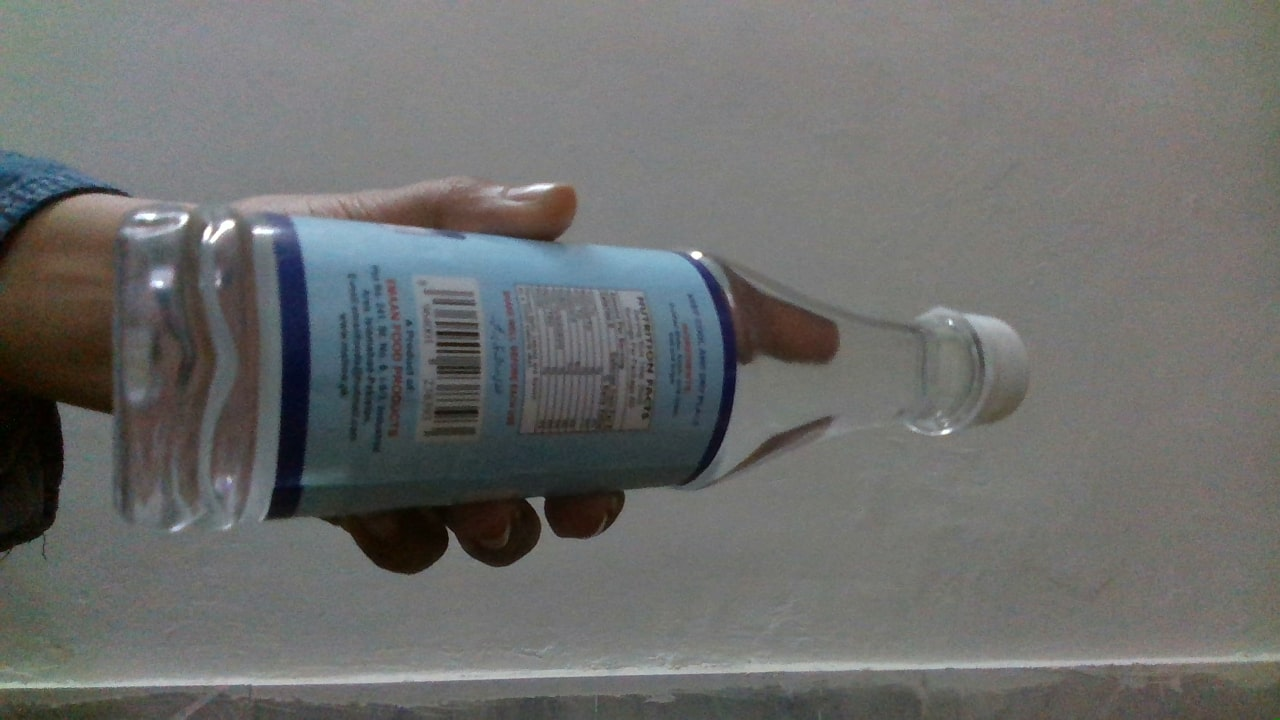Barcode: (420, 281, 485, 443)
